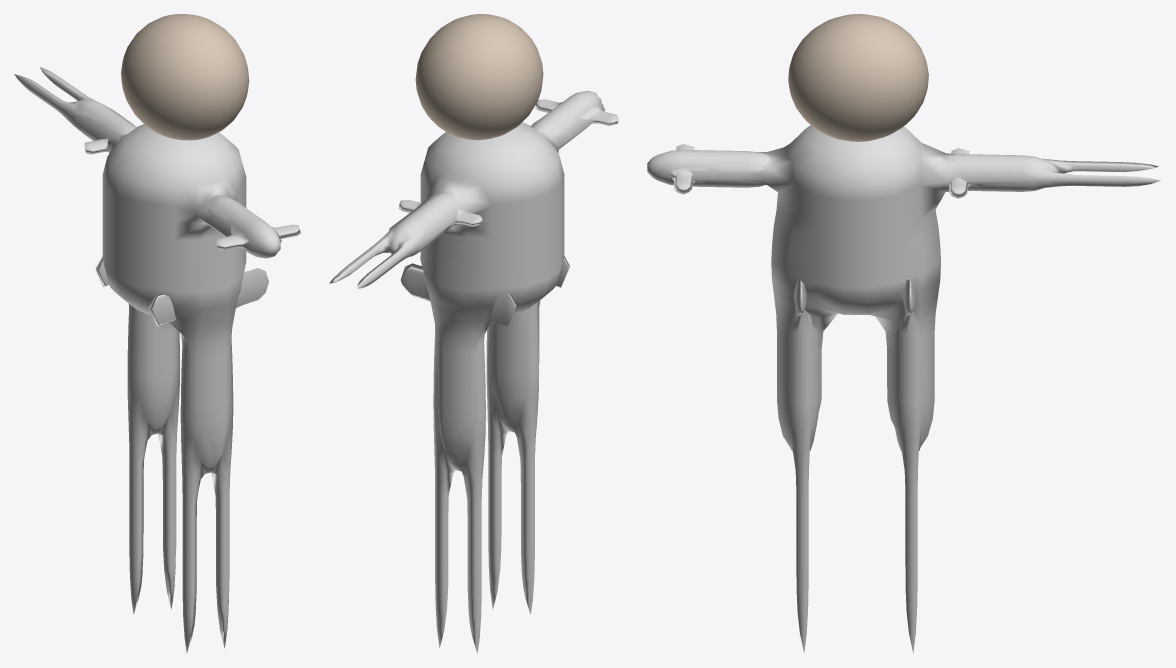
File: Person.fbx
3 renders of one model, left to right at view 1: azimuth 30°, elevation 25°; view 2: azimuth 150°, elevation 25°; view 3: azimuth 270°, elevation 25°, orthographic. The views are drawn at different scales.
Parts seen in each view (by area): view 1: Mball, Sphere, Mball_003, Mball_004, Mball_001, Mball_002; view 2: Mball, Sphere, Mball_004, Mball_003, Mball_002, Mball_001; view 3: Mball, Sphere, Mball_003, Mball_004, Mball_002, Mball_001.
Part boxes in pixels (x1,y1,x2,y2): Mball: (73, 105, 281, 465); Sphere: (121, 14, 249, 140); Mball_003: (95, 257, 179, 614); Mball_004: (149, 268, 268, 653); Mball_001: (206, 195, 300, 258); Mball_002: (14, 67, 135, 154); Mball: (389, 103, 605, 460); Sphere: (415, 14, 543, 140); Mball_004: (486, 256, 569, 614); Mball_003: (400, 263, 516, 653); Mball_002: (329, 192, 482, 288); Mball_001: (530, 90, 618, 148); Mball: (660, 125, 1031, 450); Sphere: (788, 14, 928, 141); Mball_003: (894, 279, 923, 652); Mball_004: (791, 278, 818, 652); Mball_002: (942, 148, 1160, 198); Mball_001: (647, 144, 769, 194).
Size of the model in its own units: 2.37 by 10.81 by 8.03.
